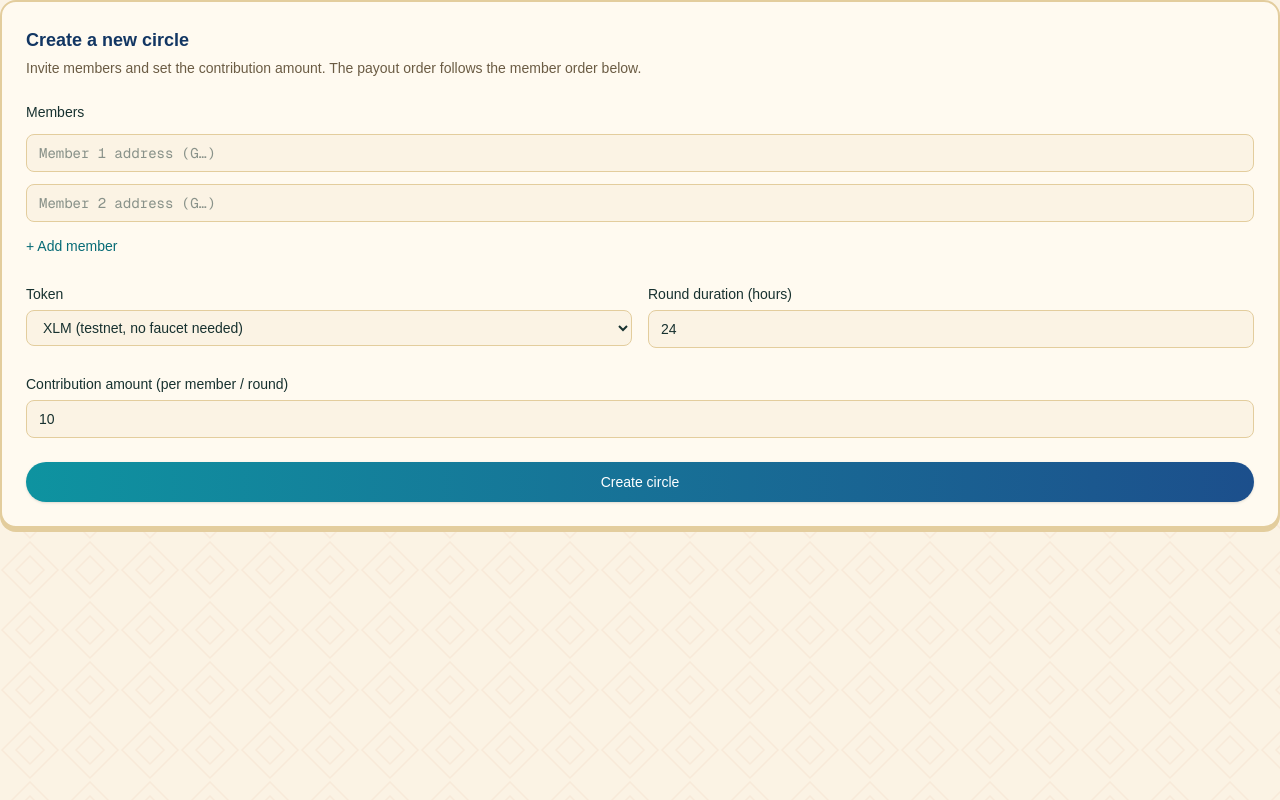
CreateCircleForm › shows a plain-language error when the wallet rejects the transaction
Type "GAMYNYJR2UILL4GXGNPUSFQBMKDBXV2EVLHOIYFH34FTORBY7ULTJHIU" into the field with placeholder "Member 1 address (G…)".
click(640, 153); type("GAMYNYJR2UILL4GXGNPUSFQBMKDBXV2EVLHOIYFH34FTORBY7ULTJHIU")  # box [26, 134, 1254, 172]
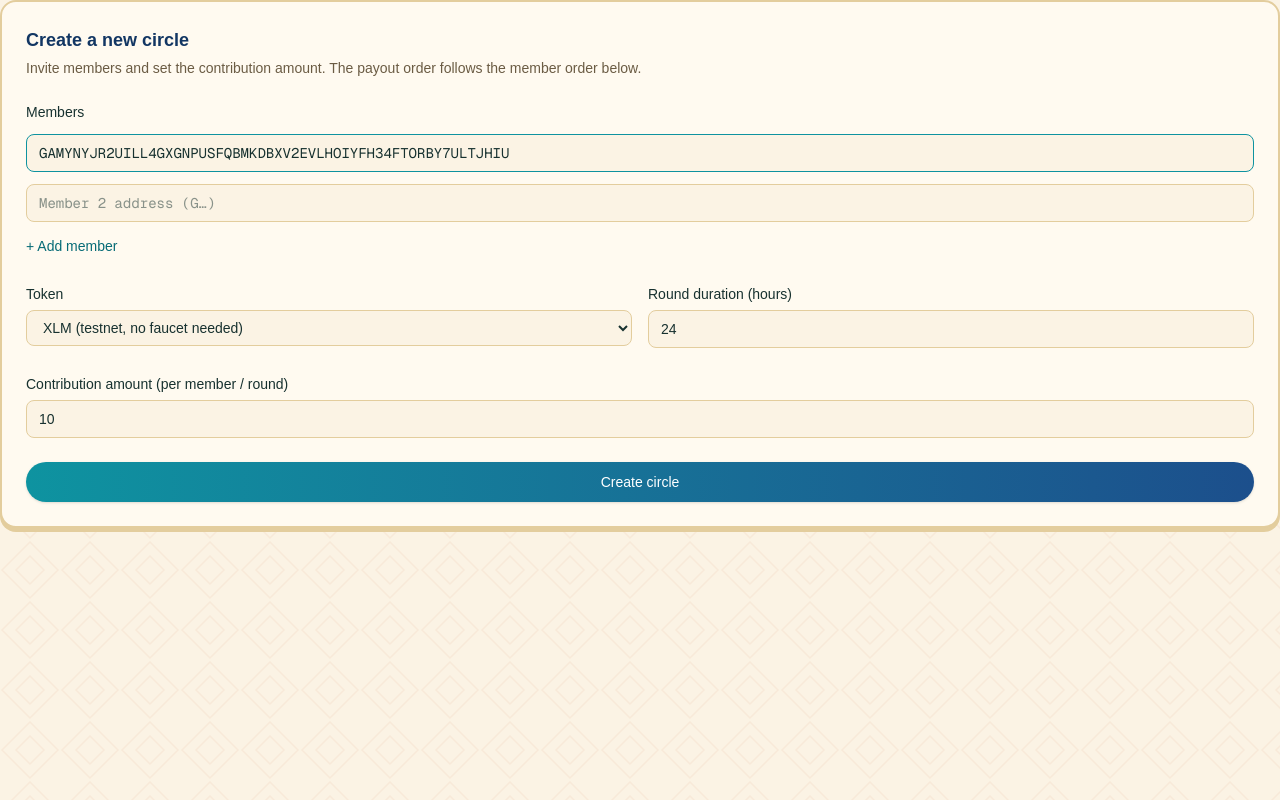
Type "GBTKI7JP6WXFBBSW6CORWJQIVUCZFKCYU2MAV3552RY4ZZDEOI2AXANG" into the field with placeholder "Member 2 address (G…)".
click(640, 203); type("GBTKI7JP6WXFBBSW6CORWJQIVUCZFKCYU2MAV3552RY4ZZDEOI2AXANG")  # box [26, 184, 1254, 222]
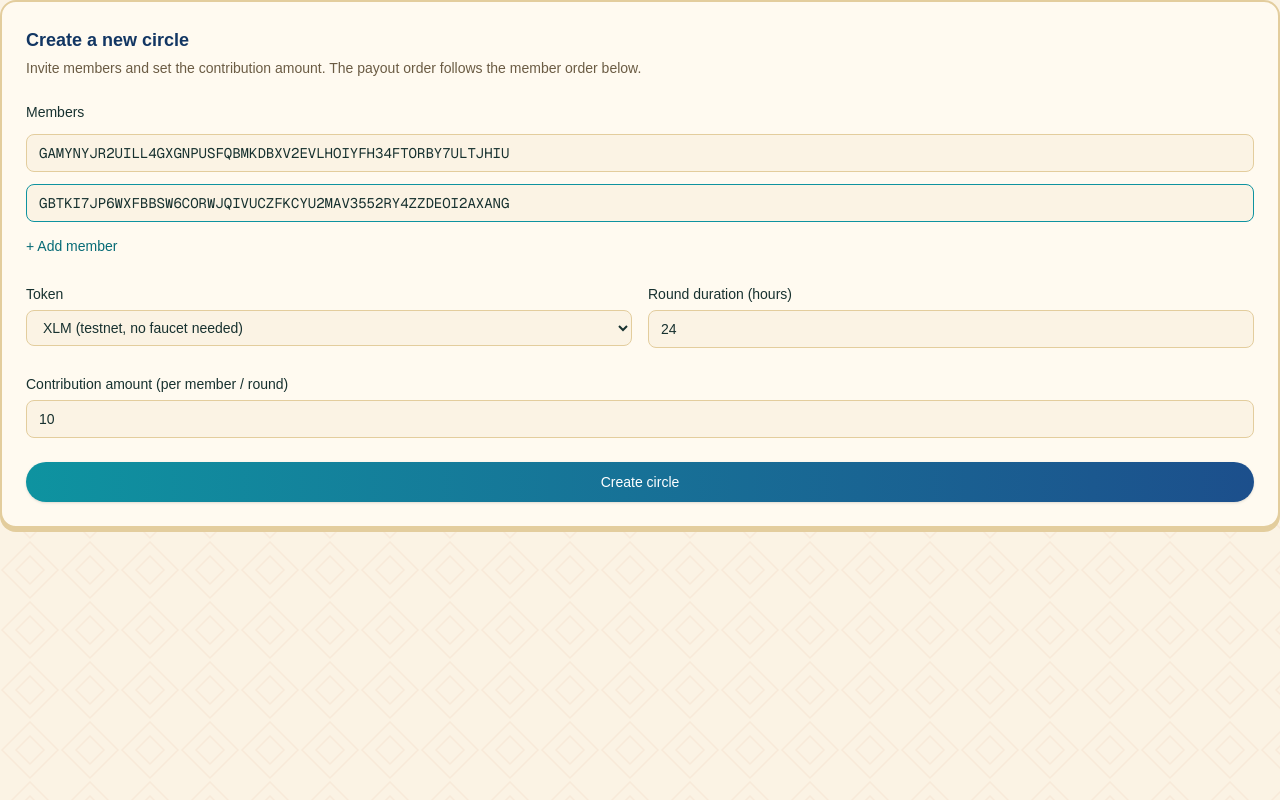
Click the button "Create circle".
click(640, 482)  # box [26, 462, 1254, 502]
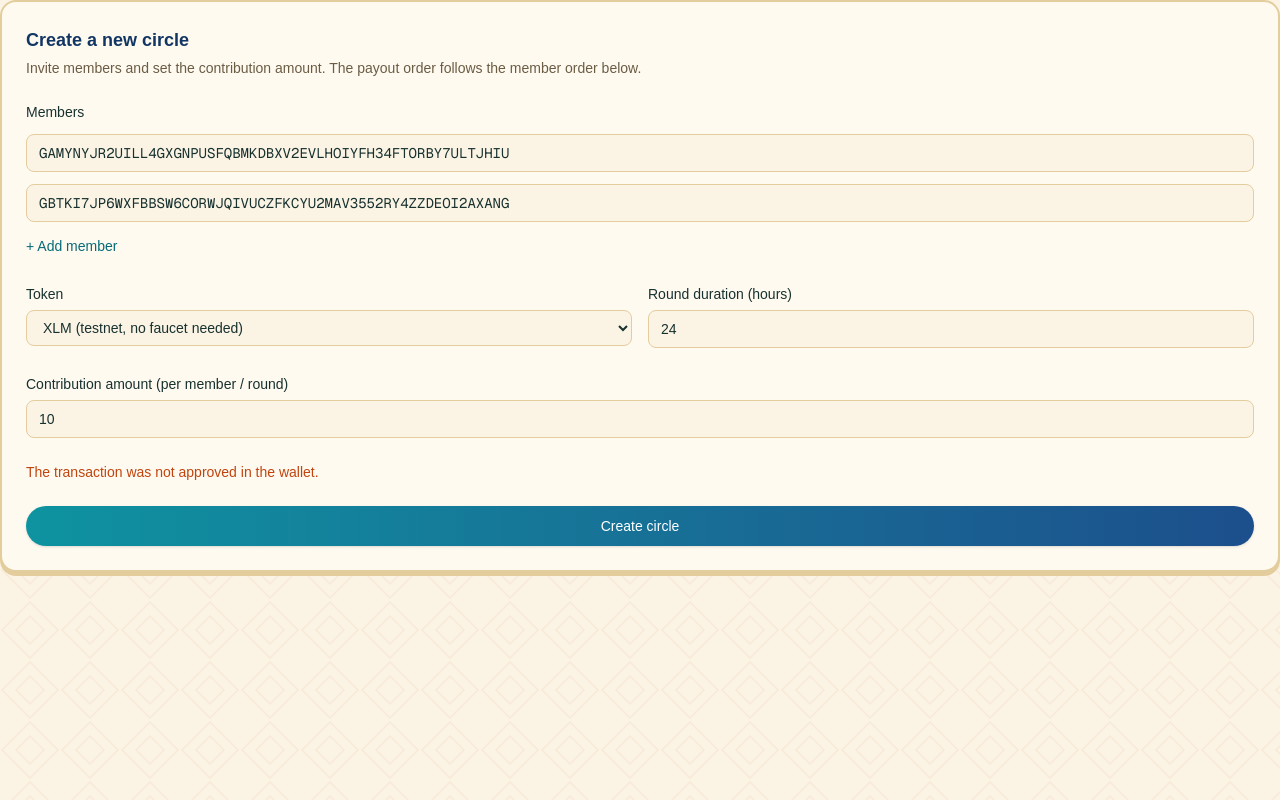
Expected: the text "The transaction was not approved in the wallet." is shown, [26, 464, 319, 480]
